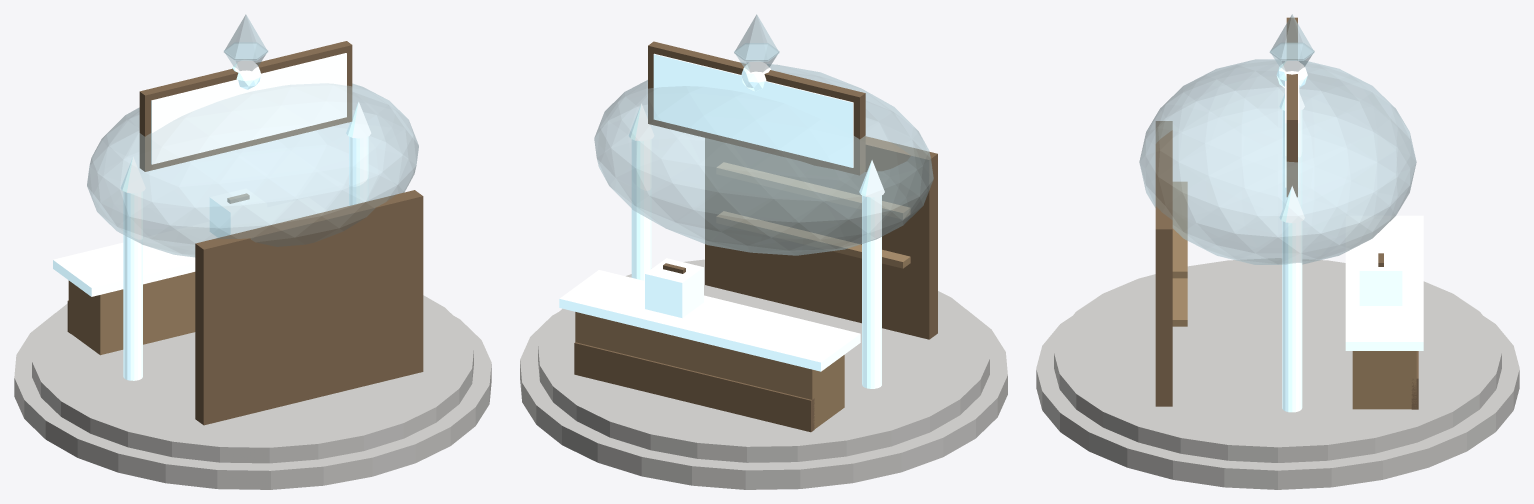
File: booth_diamond.fbx
3 views of the same model, side by side, from view 1: azimuth 30°, elevation 25°; view 2: azimuth 150°, elevation 25°; view 3: azimuth 270°, elevation 25° (orthographic). The views are drawn at different scales.
Visible parts, largest first — view 1: Canopy, Back_Wall, Base_Upper, Base_Lower, Sign_Board, Counter_Body, Counter_Top, Sign_Frame, Pillar_L, DonationBox, Pillar_R, Crystal_Top (+4 smaller); view 2: Canopy, Base_Upper, Back_Wall, Base_Lower, Sign_Board, Counter_Top, Counter_Body, Counter_Skirt, Sign_Frame, Pillar_L, Pillar_R, DonationBox (+7 smaller); view 3: Base_Upper, Canopy, Base_Lower, Counter_Top, Back_Wall, Pillar_R, Counter_Body, DonationBox, Sign_Frame, Back_Shelf2, Crystal_Top, Crystal_Bottom (+4 smaller).
Part boxes in pixels (x1,y1,x2,y2): Canopy: (87,83,418,257); Back_Wall: (195,190,423,425); Base_Upper: (32,295,473,463); Base_Lower: (14,313,491,489); Sign_Board: (151,53,346,164); Counter_Body: (68,272,195,355); Counter_Top: (53,197,326,296); Sign_Frame: (139,41,352,171); Pillar_L: (123,191,142,380); DonationBox: (210,188,266,237); Pillar_R: (349,136,368,205); Crystal_Top: (224,14,267,60); Canopy: (594,62,933,255); Base_Upper: (538,259,989,462); Back_Wall: (705,136,937,339); Base_Lower: (520,309,1007,489); Sign_Board: (653,53,853,167); Counter_Top: (559,270,860,371); Counter_Body: (575,312,844,429); Counter_Skirt: (574,342,814,432); Sign_Frame: (648,41,865,175); Pillar_L: (862,195,881,388); Pillar_R: (631,139,651,280); DonationBox: (645,258,703,317); Base_Upper: (1054,258,1501,462); Canopy: (1139,59,1416,264); Base_Lower: (1036,316,1519,489); Counter_Top: (1345,215,1423,350); Back_Wall: (1155,121,1172,406); Pillar_R: (1282,221,1302,412); Counter_Body: (1352,351,1416,409); DonationBox: (1359,253,1402,305); Sign_Frame: (1286,17,1297,197); Back_Shelf2: (1172,182,1187,278); Crystal_Top: (1269,14,1314,60); Crystal_Bottom: (1270,43,1314,71).
Bounding box in the file's own units: 6.8 × 5.8 × 6.8.
